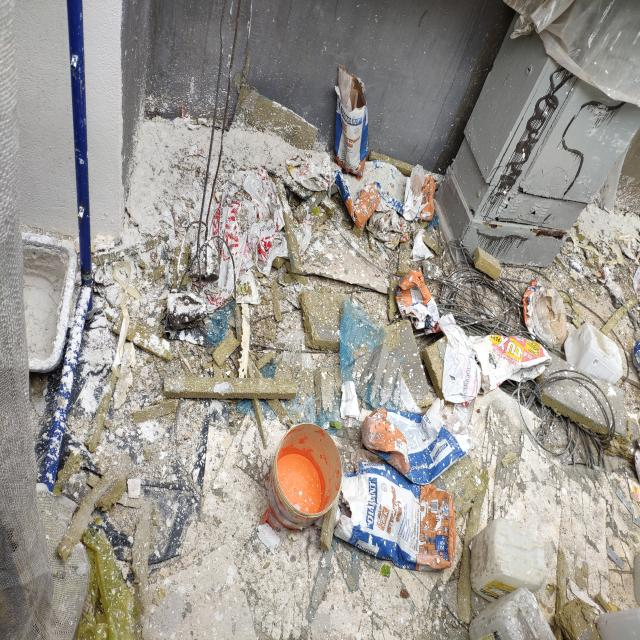entulho: (340, 455, 460, 575), (518, 0, 640, 103), (432, 309, 548, 401), (356, 392, 464, 486), (266, 420, 344, 531), (328, 66, 370, 178), (562, 318, 624, 390), (390, 266, 442, 338), (522, 286, 571, 350), (333, 174, 377, 226), (403, 164, 437, 222)
